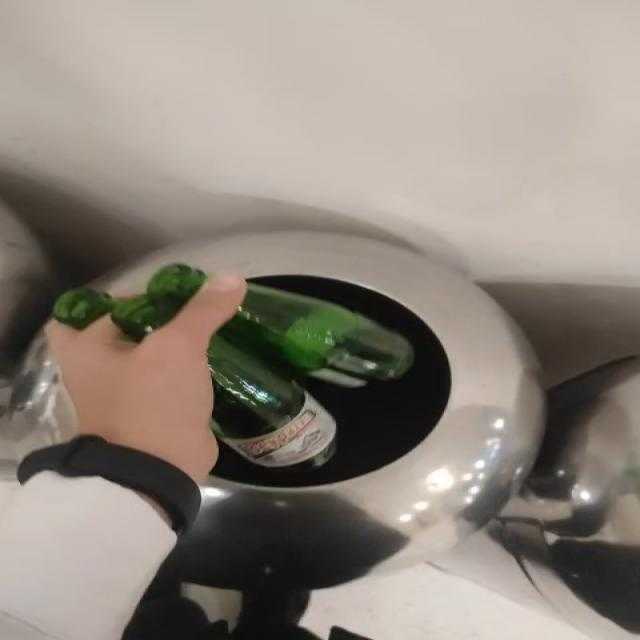glass: (208, 284, 415, 468), (52, 264, 207, 341)
